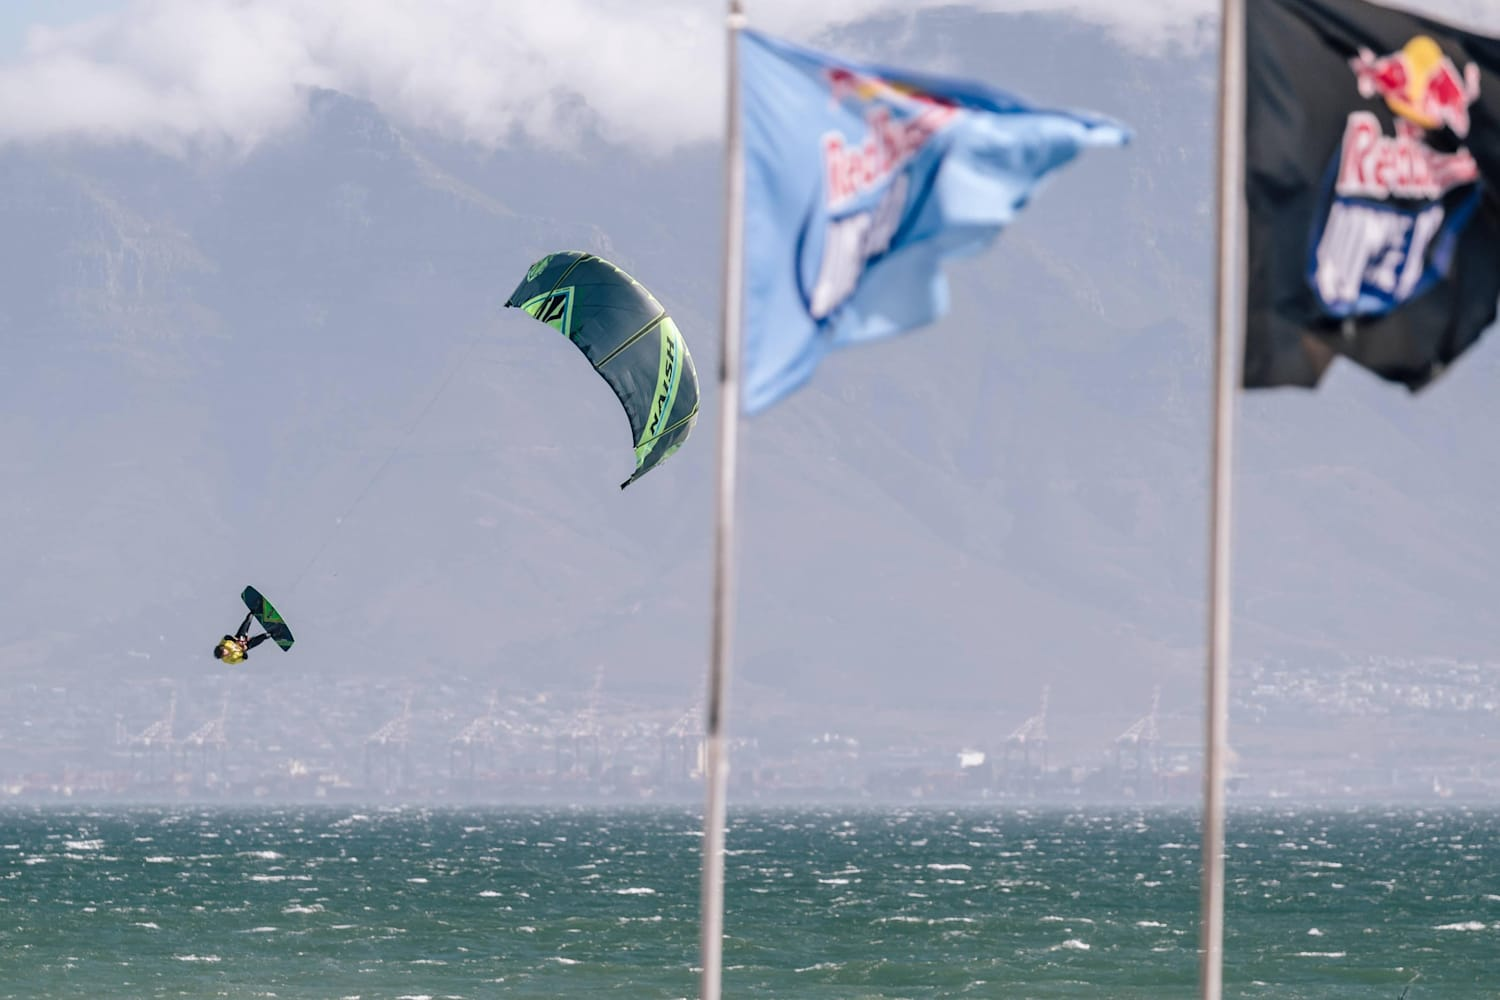Flag: (720, 16, 1137, 433), (1231, 1, 1498, 412)
